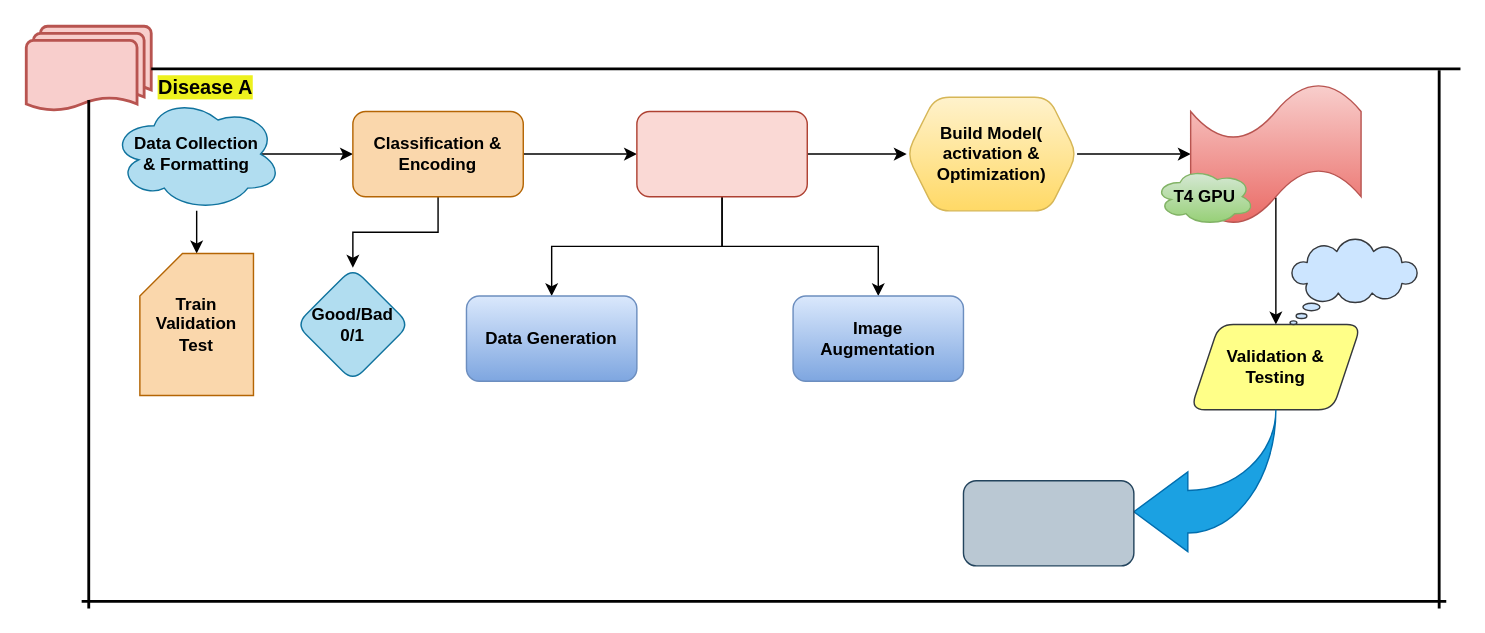
Some shapes in this 1485 by 633 pixel diagram are drawn without their labels. Here are the shapes that lost their labels. From the top down, the box of each, then its label:
(24, 24, 152, 112): Multiple Diseases
(635, 110, 807, 197): Data Preprocessing
(1189, 82, 1361, 225): Train model
(1289, 238, 1418, 324): Save Model
(962, 479, 1134, 566): Deployment (Loading Model)
